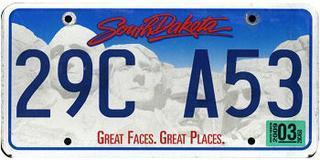placa de veiculo: (5, 4, 313, 158)
